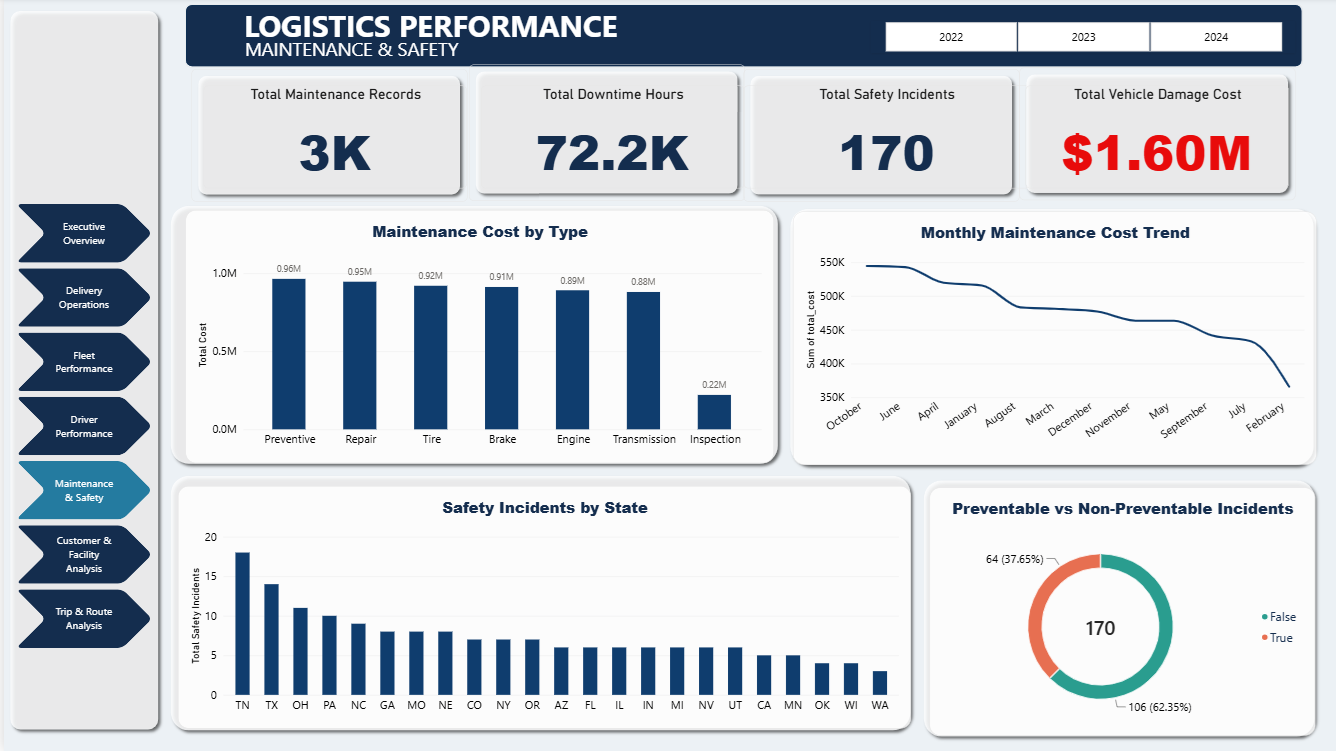

What the dashboard file says about the page in this screenshot:
{"tool":"powerbi","page":{"name":"Maintenance & Safety","canvas":[1920,1080],"ordinal":4},"visuals":[{"type":"shape","box":[0,10,230,1047.5],"z":0},{"type":"shape","box":[259,10.3,1600,90],"z":1000},{"type":"shape","box":[267.5,102.5,395,190],"z":2000},{"type":"shape","box":[230,290,887.5,387.5],"z":3000},{"type":"shape","box":[1117.5,295,767.5,385],"z":4000},{"type":"shape","box":[230,677.5,1077.5,382.5],"z":5000},{"type":"shape","box":[1307.5,682.5,577.5,385],"z":6000},{"type":"textbox","box":[230,10,762.5,70],"z":7000},{"type":"textbox","box":[302.5,55,390,45],"z":8000},{"type":"cardVisual","title":"Total Maintenance Records","fields":{"Data":["All Measures.Total Maintenance Records"]},"box":[285,127.5,377.5,147.5],"z":10000},{"type":"shape","box":[1060,102.5,395,190],"z":11000},{"type":"cardVisual","title":"Total Safety Incidents","fields":{"Data":["All Measures.Total Safety Incidents"]},"box":[1060,127.5,410,147.5],"z":12000},{"type":"lineChart","title":"Monthly Maintenance Cost Trend","fields":{"Category":["maintenance_records.Month"],"Y":["Sum(maintenance_records.total_cost)"]},"box":[1130,307.5,750,362.5],"z":13000},{"type":"clusteredColumnChart","title":"Safety Incidents by State","fields":{"Category":["safety_incidents.location_state"],"Y":["All Measures.Total Safety Incidents"]},"box":[250,700,1050,347.5],"z":14000},{"type":"clusteredColumnChart","title":"Maintenance Cost by Type","fields":{"Category":["maintenance_records.maintenance_type"],"Y":["Sum(maintenance_records.total_cost)"]},"box":[260,305,842.5,362.5],"z":15000},{"type":"shape","box":[665,97.5,395,195],"z":16000},{"type":"cardVisual","title":"Total Downtime Hours","fields":{"Data":["All Measures.Total Downtime Hours"]},"box":[682.5,127.5,377.5,147.5],"z":17000},{"type":"pageNavigator","box":[17.5,297.5,195,637],"z":18000},{"type":"shape","box":[1455,100,395,190],"z":19000},{"type":"cardVisual","title":"Total Vehicle Damage Cost","fields":{"Data":["All Measures.Total Vehicle Damage Cost"]},"box":[1462.5,127.5,377.5,147.5],"z":20000},{"type":"donutChart","title":"Preventable vs Non-Preventable Incidents","fields":{"Category":["safety_incidents.preventable_flag"],"Y":["All Measures.Total Safety Incidents"]},"box":[1325,702.5,552.5,355],"z":21000},{"type":"slicer","fields":{"Values":["Calendar.Year"]},"box":[1242.5,35,607.5,45],"z":21001}]}

Visuals, with their boxes in screenshot pixels (x1, y1, x2, y2), scaled from the page's 1920x1080 canvas onto the 1336x751 screenshot:
shape: region(0, 7, 160, 735)
shape: region(180, 7, 1294, 70)
shape: region(186, 71, 461, 203)
shape: region(160, 202, 778, 471)
shape: region(778, 205, 1312, 473)
shape: region(160, 471, 910, 737)
shape: region(910, 475, 1312, 742)
textbox: region(160, 7, 691, 56)
textbox: region(210, 38, 482, 70)
"Total Maintenance Records" cardVisual: region(198, 89, 461, 191)
shape: region(738, 71, 1012, 203)
"Total Safety Incidents" cardVisual: region(738, 89, 1023, 191)
"Monthly Maintenance Cost Trend" lineChart: region(786, 214, 1308, 466)
"Safety Incidents by State" clusteredColumnChart: region(174, 487, 905, 728)
"Maintenance Cost by Type" clusteredColumnChart: region(181, 212, 767, 464)
shape: region(463, 68, 738, 203)
"Total Downtime Hours" cardVisual: region(475, 89, 738, 191)
pageNavigator: region(12, 207, 148, 650)
shape: region(1012, 70, 1287, 202)
"Total Vehicle Damage Cost" cardVisual: region(1018, 89, 1280, 191)
"Preventable vs Non-Preventable Incidents" donutChart: region(922, 488, 1306, 735)
slicer - Calendar.Year: region(865, 24, 1287, 56)
